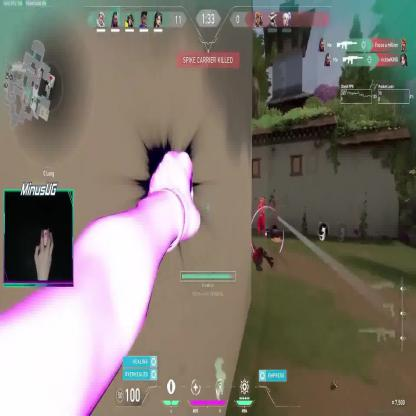enemy: (256, 196, 266, 236)
enemy_head: (259, 197, 264, 206)
